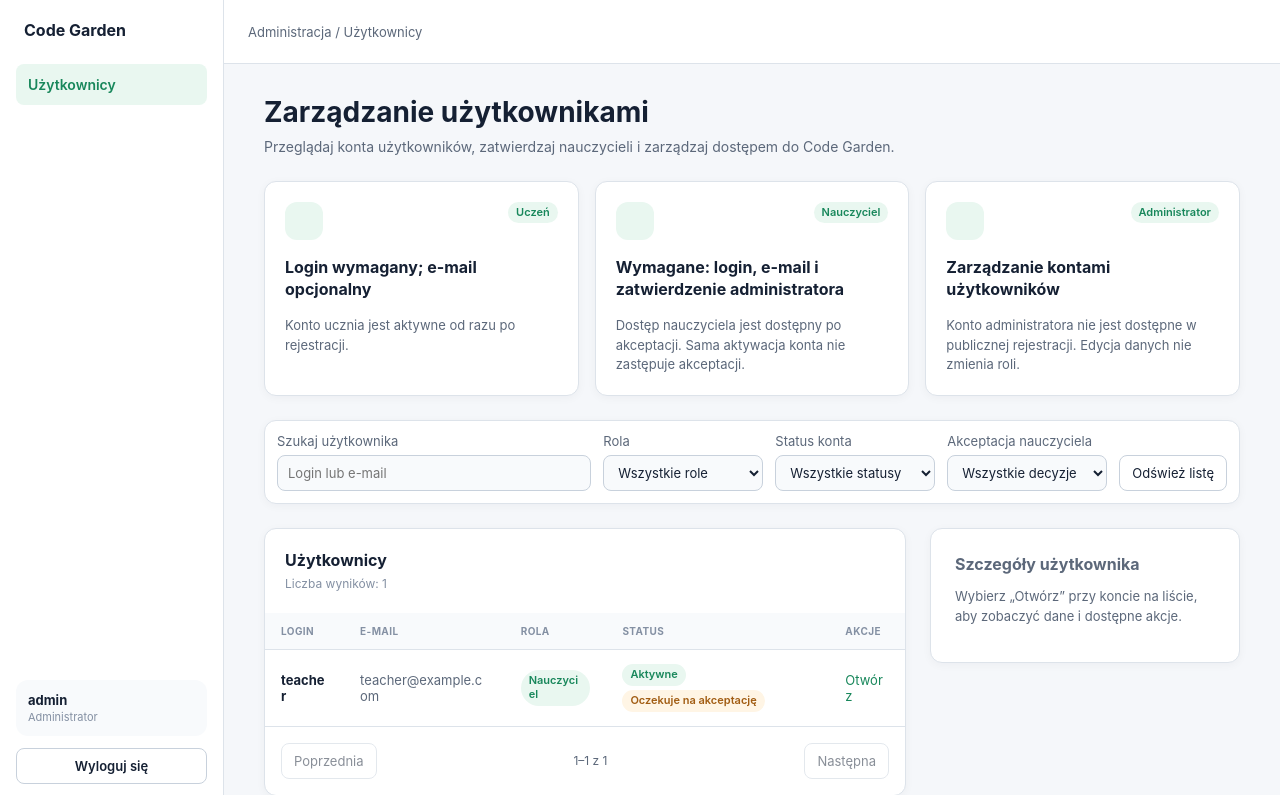
Scenario: revokes approval and shows the pending approval actions again
What coordinates should you click on to do the following:
click the button with aria-label "Otwórz użytkownika teacher"
I would click on:
 (867, 688)
Its box is [845,666,889,710].
(page scrolled)
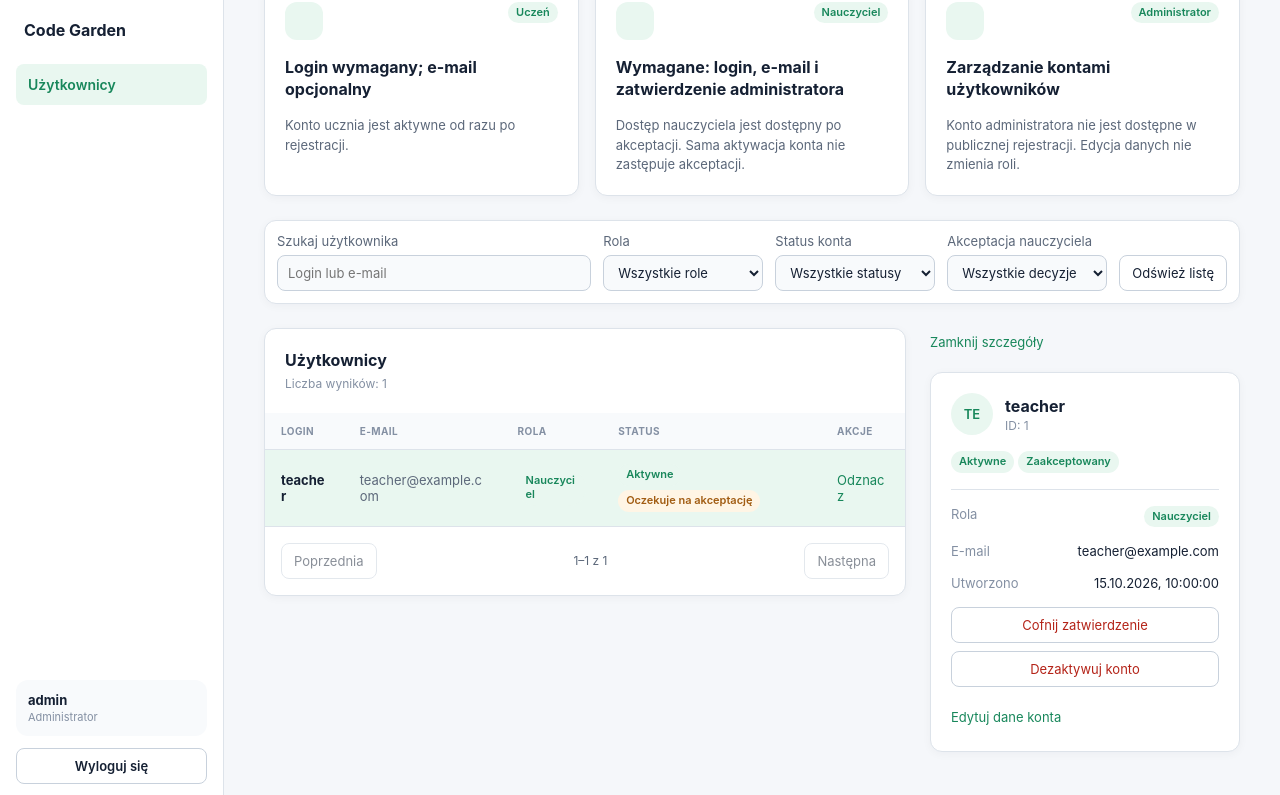
What coordinates should you click on to do the following:
click the button "Cofnij zatwierdzenie"
I would click on:
 (1085, 625)
Its box is [951,607,1219,643].
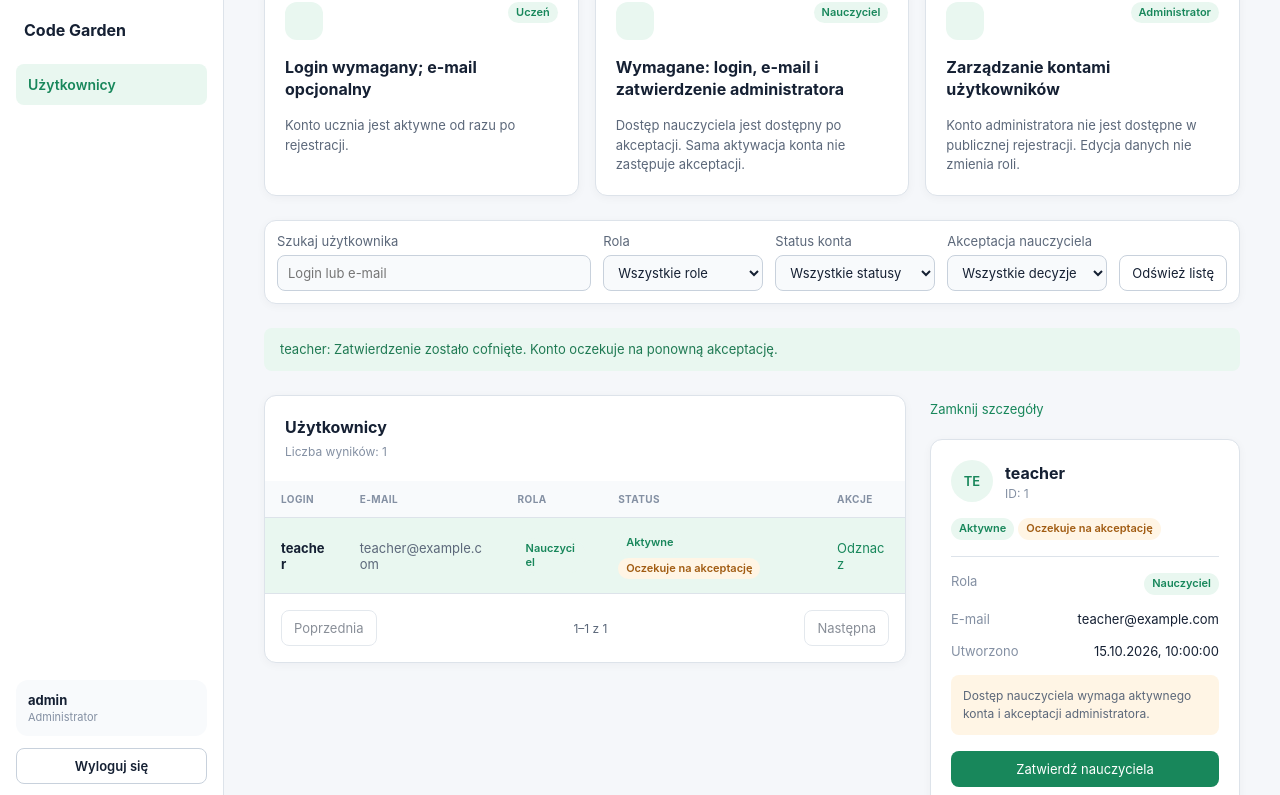
Now the button "Zatwierdź nauczyciela" is shown, box [951,751,1219,787]
Now the text "Dostęp nauczyciela wymaga aktywnego konta i akceptacji administratora." is shown, box [951,675,1219,735]
Now the button "Cofnij zatwierdzenie" is gone
